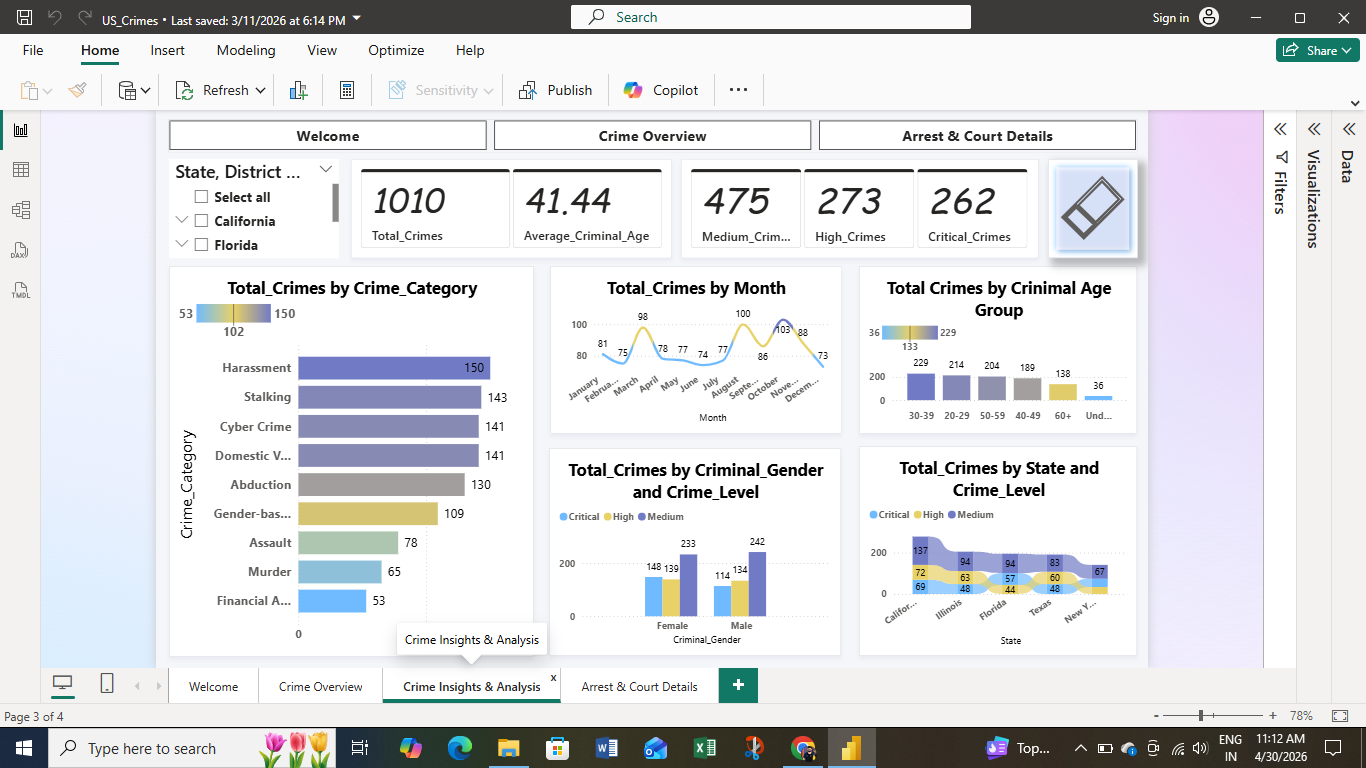

Layout of this report page (visuals, bound fields, positions):
{"tool":"powerbi","page":{"name":"Crime Insights & Analysis","canvas":[1280,720],"ordinal":2},"visuals":[{"type":"columnChart","title":"Total Crimes by Crinimal Age Group","fields":{"Y":["measures (2).Total_Crimes"],"Category":["Crimes.Criminal_Age_Bin"]},"box":[907,200.9,359.2,216.1],"z":0},{"type":"ribbonChart","fields":{"Category":["Locations.State"],"Y":["measures (2).Total_Crimes"],"Series":["CrimeType.Crime_Level"]},"box":[907.2,433.3,359.4,271],"z":1000},{"type":"cardVisual","fields":{"Data":["measures (2).Medium_Crimes","measures (2).High_Crimes","measures (2).Critical_Crimes"]},"box":[677.2,63.3,462.5,128],"z":2000},{"type":"cardVisual","fields":{"Data":["measures (2).Total_Crimes","measures (2).Average_Criminal_Age"]},"box":[251.9,63.3,414.3,128],"z":3000},{"type":"clusteredColumnChart","fields":{"Category":["Crimes.Criminal_Gender"],"Y":["measures (2).Total_Crimes"],"Series":["CrimeType.Crime_Level"]},"box":[507.2,436.2,376.8,268.1],"z":4000},{"type":"lineChart","fields":{"Category":["Crimes.Date_of_Crime.Variation.Date Hierarchy.Year","Crimes.Date_of_Crime.Variation.Date Hierarchy.Quarter","Crimes.Date_of_Crime.Variation.Date Hierarchy.Month","Crimes.Date_of_Crime.Variation.Date Hierarchy.Day"],"Y":["measures (2).Total_Crimes"]},"box":[507.9,200.9,375.7,216.1],"z":5000},{"type":"barChart","fields":{"Y":["measures (2).Total_Crimes"],"Category":["CrimeType.Crime_Category"]},"box":[16.5,200.9,470.7,503.7],"z":6000},{"type":"slicer","fields":{"Values":["Locations.State","Locations.District / County"]},"box":[16.5,63.3,218.8,128],"z":7000},{"type":"pageNavigator","box":[15.6,11.3,1251.5,42.5],"z":8000},{"type":"actionButton","box":[1150.6,63.3,115.6,128],"z":9000}]}

Visuals, with their boxes on the page's 1280x720 design canvas (x1, y1, x2, y2). These are canvas units, not pixel positions in the 1366x768 screenshot, which may show the page scaled, cropped or inside an application window:
"Total Crimes by Crinimal Age Group" columnChart: detection(907, 201, 1266, 417)
ribbonChart - Locations.State x measures (2).Total_Crimes: detection(907, 433, 1267, 704)
cardVisual - measures (2).Medium_Crimes x measures (2).High_Crimes: detection(677, 63, 1140, 191)
cardVisual - measures (2).Total_Crimes x measures (2).Average_Criminal_Age: detection(252, 63, 666, 191)
clusteredColumnChart - Crimes.Criminal_Gender x measures (2).Total_Crimes: detection(507, 436, 884, 704)
lineChart - Crimes.Date_of_Crime.Variation.Date Hierarchy.Year x Crimes.Date_of_Crime.Variation.Date Hierarchy.Quarter: detection(508, 201, 884, 417)
barChart - measures (2).Total_Crimes x CrimeType.Crime_Category: detection(16, 201, 487, 705)
slicer - Locations.State x Locations.District / County: detection(16, 63, 235, 191)
pageNavigator: detection(16, 11, 1267, 54)
actionButton: detection(1151, 63, 1266, 191)
